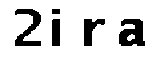2: (12, 5, 46, 52)
a: (115, 16, 148, 51)
i: (49, 8, 65, 46)
r: (80, 13, 106, 52)
